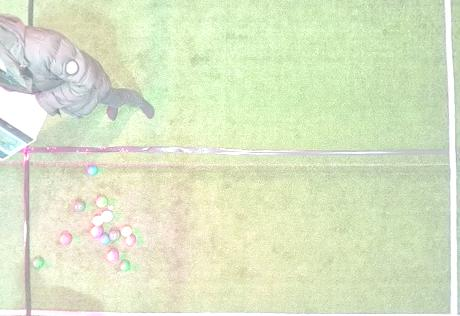blue: (87, 165, 97, 176), (100, 234, 110, 244)
green: (96, 197, 107, 208), (33, 258, 44, 269), (74, 201, 85, 211), (110, 230, 120, 241), (120, 261, 130, 271)
red: (59, 233, 72, 245), (107, 250, 119, 262), (101, 211, 113, 223), (91, 226, 103, 237), (126, 235, 136, 246)
vline: (441, 0, 459, 316), (1, 149, 31, 315), (1, 0, 35, 30)
white: (108, 205, 113, 210)
yellow: (121, 226, 132, 237), (92, 216, 102, 226)
